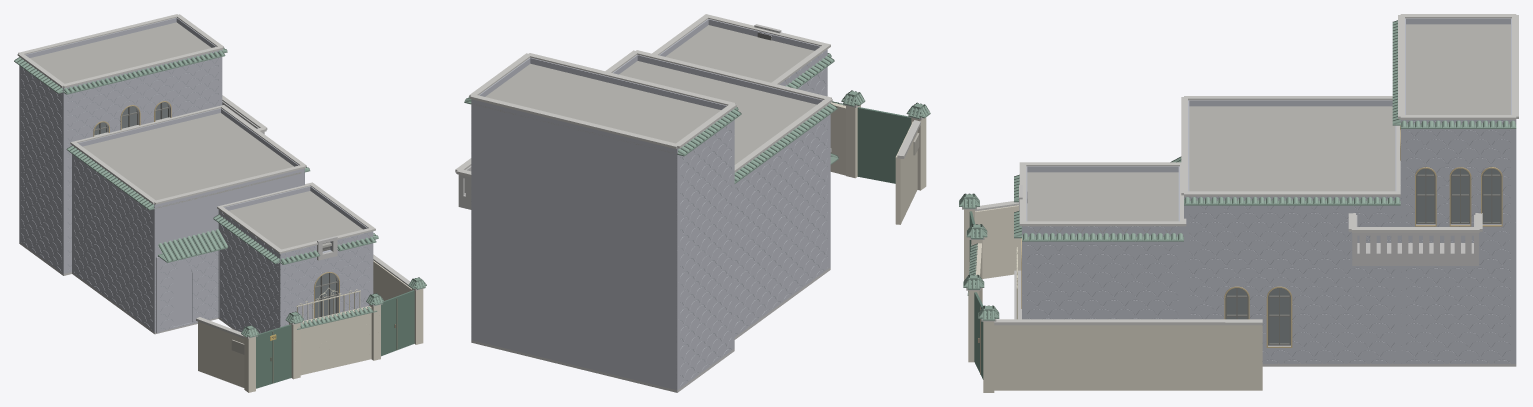
The model's file is changning-yuyuan-road-754-web.glb.
The picture shows the model from 3 angles, left to right: view 1: azimuth 30°, elevation 25°; view 2: azimuth 150°, elevation 25°; view 3: azimuth 270°, elevation 25°; orthographic projection. The views are drawn at different scales.
Parts seen in each view (by area): view 1: 愚园路754号住宅; view 2: 愚园路754号住宅; view 3: 愚园路754号住宅.
Part boxes in pixels (left/top/right/bottom): 愚园路754号住宅: left=14, top=14, right=426, bottom=392; 愚园路754号住宅: left=455, top=14, right=930, bottom=392; 愚园路754号住宅: left=959, top=14, right=1518, bottom=392.
Size of the model in its own units: 9.7 by 8.43 by 17.12.
